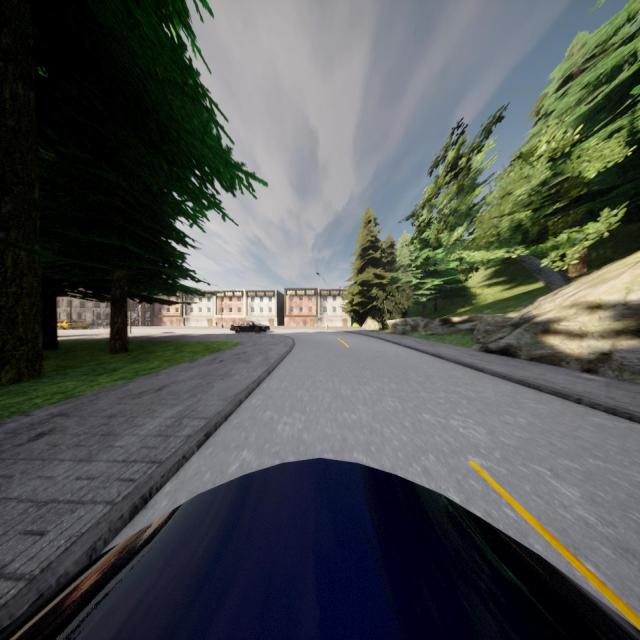Vehicle: (0, 456, 640, 640), (230, 320, 270, 332), (56, 318, 88, 330)
